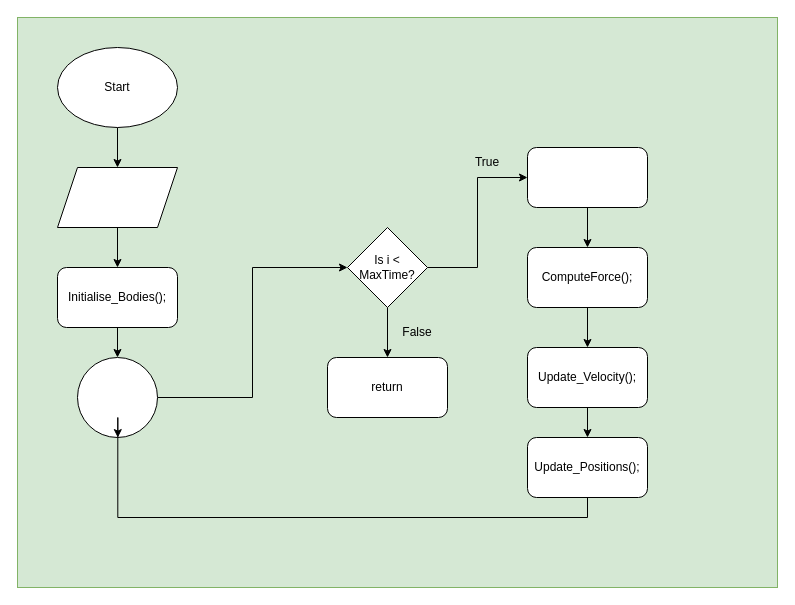
This 795x605 diagram has some shape labels left out. The shapes that lost their labels are listed below. From the top down, each one's centre as x and y in pixels, then its label:
At (x=117, y=197): "Function Main()".
At (x=587, y=177): "OutputWorld();".
At (x=117, y=397): "Start Loop at i=0, increment by STEP".
